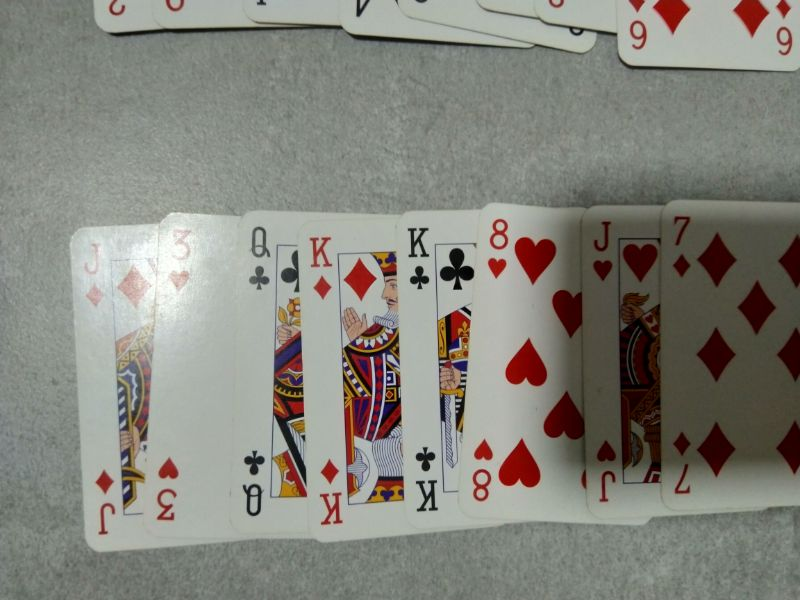3h: (151, 451, 182, 528), (166, 223, 199, 295)
6d: (771, 1, 797, 63)
7d: (669, 211, 695, 282), (672, 426, 695, 501)
8h: (483, 214, 514, 283), (469, 432, 498, 504)
Jd: (77, 239, 109, 310), (92, 466, 121, 539)
Jh: (589, 216, 616, 285), (595, 435, 619, 507)
Kc: (411, 444, 442, 515), (404, 222, 433, 292)
Kd: (314, 455, 347, 532), (306, 229, 334, 303)
Qc: (246, 218, 276, 295), (240, 447, 269, 521)
